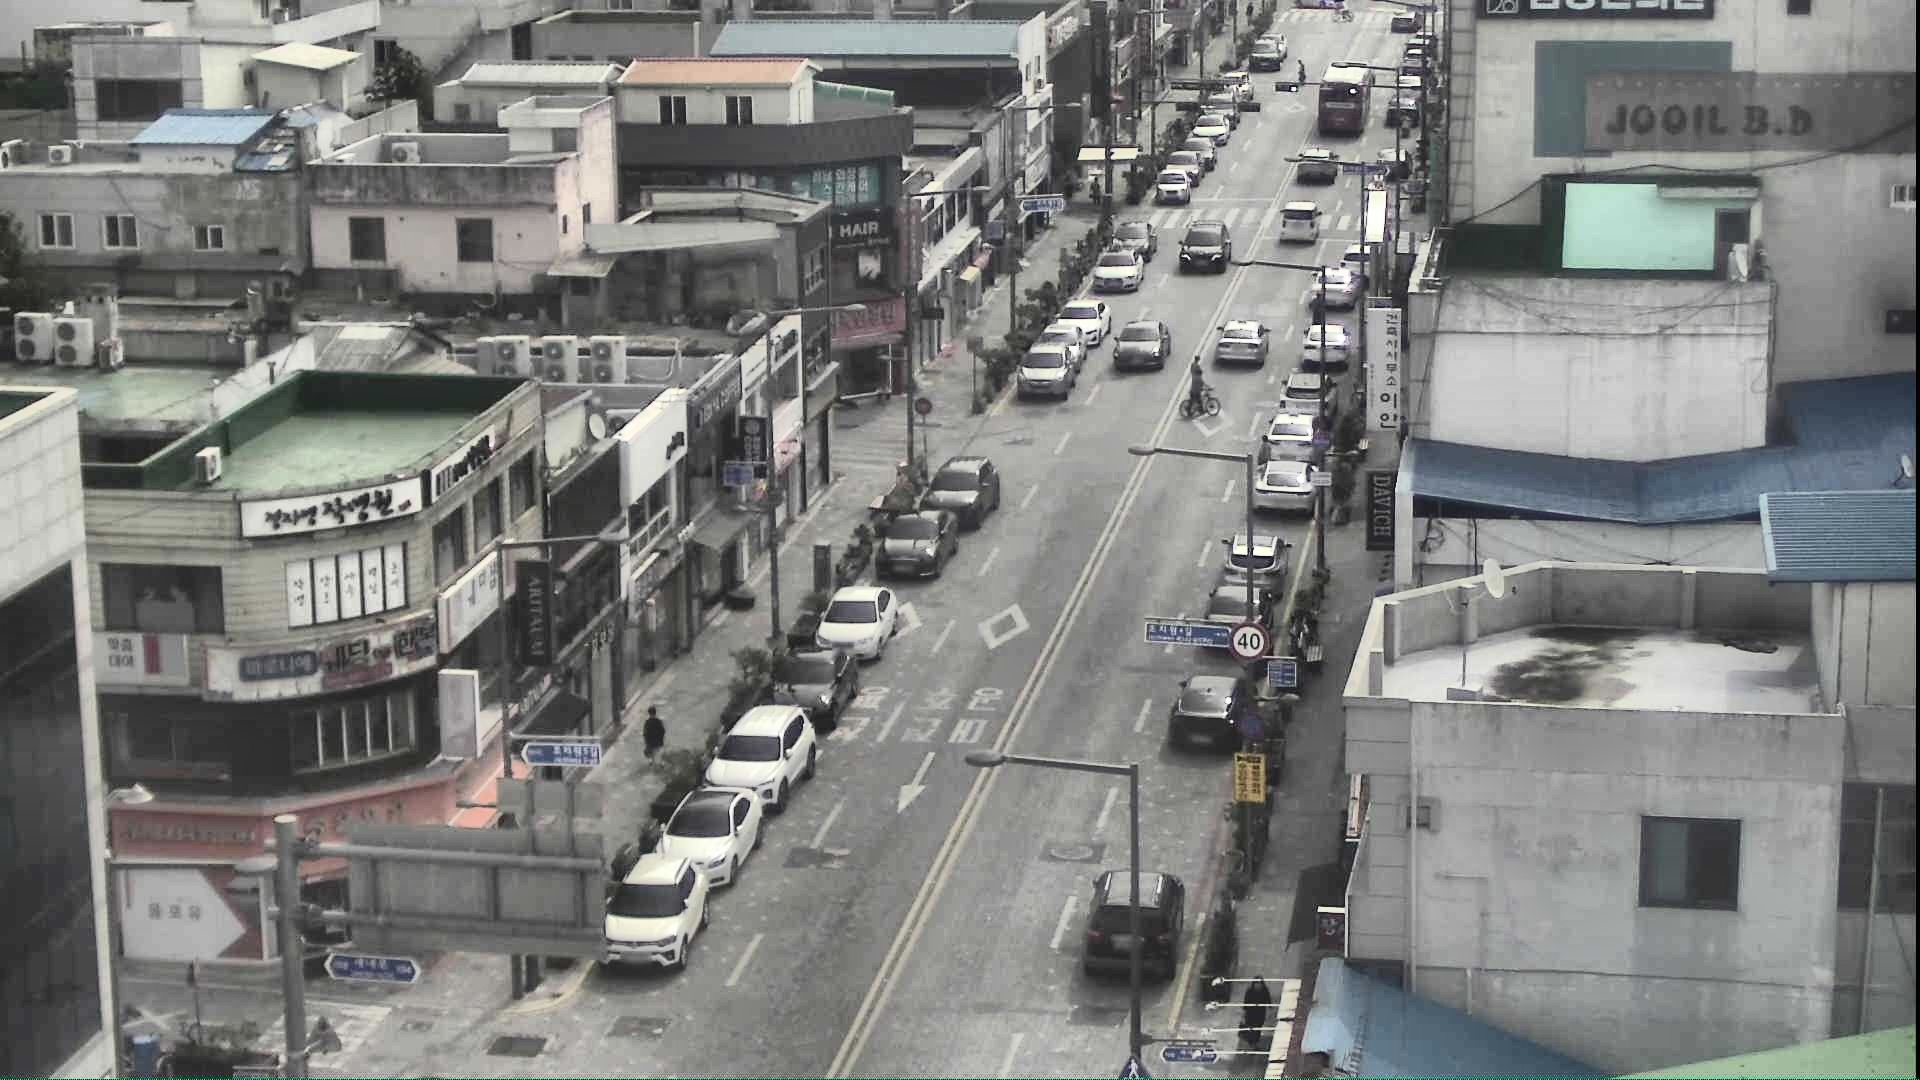jaywalk: (1185, 349, 1204, 401), (1191, 376, 1213, 414), (1255, 433, 1270, 468), (1292, 57, 1307, 87), (1332, 4, 1352, 22)
sidewalk: (1242, 973, 1276, 1056), (642, 705, 665, 775), (1088, 178, 1102, 211), (1244, 3, 1251, 21)
